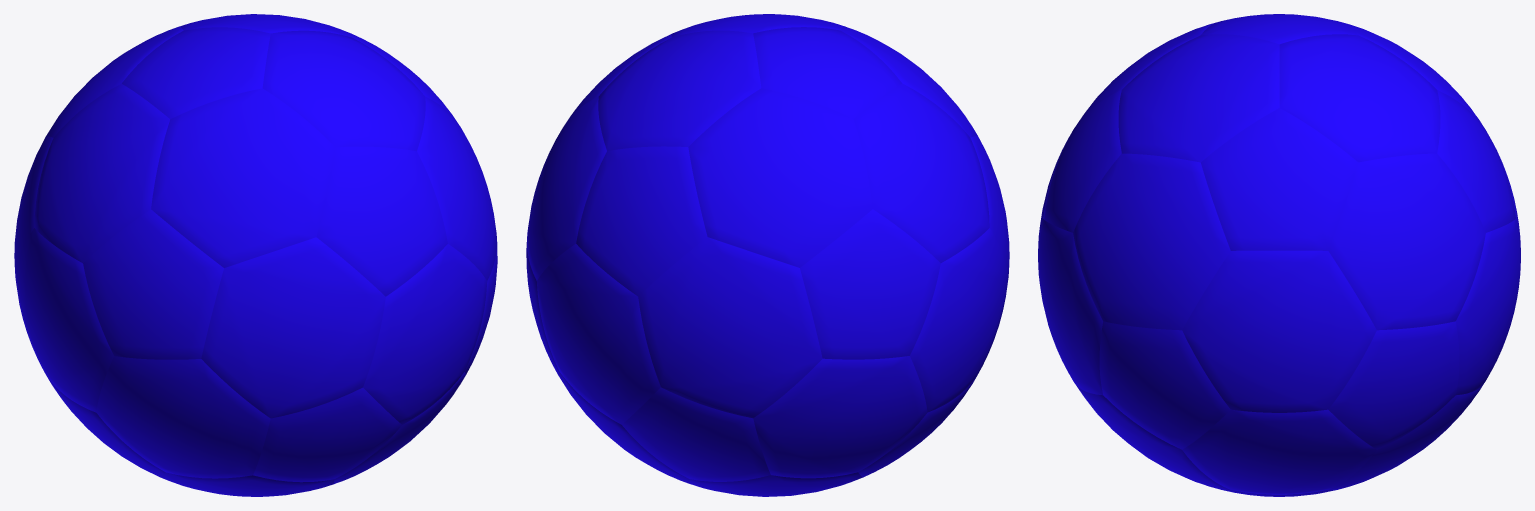
Rendered from ball_parts.fbx.
3 views of the same model, side by side, from view 1: azimuth 30°, elevation 25°; view 2: azimuth 150°, elevation 25°; view 3: azimuth 270°, elevation 25° (orthographic).
Parts seen in each view (by area): view 1: Ball.014, Ball.016, Ball.012, Ball.028, Ball.026, Ball.003, Ball.015, Ball.017, Ball.025, Ball.013, Ball.029, Ball.004 (+8 smaller); view 2: Ball.010, Ball.011, Ball.012, Ball.024, Ball.027, Ball.008, Ball.009, Ball.020, Ball.025, Ball.013, Ball.023, Ball.007 (+8 smaller); view 3: Ball.006, Ball.004, Ball.007, Ball.005, Ball.003, Ball.008, Ball.019, Ball.018, Ball.021, Ball.017, Ball.020, Ball.015 (+6 smaller).
Boxes of the visible parts, x1=… form: Ball.014: x1=151, y1=88, x2=335, y2=267; Ball.016: x1=201, y1=237, x2=385, y2=418; Ball.012: x1=34, y1=83, x2=169, y2=263; Ball.028: x1=96, y1=356, x2=270, y2=478; Ball.026: x1=83, y1=209, x2=223, y2=359; Ball.003: x1=262, y1=30, x2=425, y2=151; Ball.015: x1=316, y1=146, x2=447, y2=296; Ball.017: x1=363, y1=244, x2=487, y2=424; Ball.025: x1=16, y1=228, x2=113, y2=412; Ball.013: x1=122, y1=27, x2=270, y2=119; Ball.029: x1=253, y1=387, x2=401, y2=482; Ball.004: x1=417, y1=96, x2=496, y2=280; Ball.010: x1=688, y1=88, x2=872, y2=267; Ball.011: x1=638, y1=237, x2=822, y2=418; Ball.012: x1=853, y1=83, x2=989, y2=262; Ball.024: x1=753, y1=356, x2=927, y2=478; Ball.027: x1=800, y1=209, x2=940, y2=359; Ball.008: x1=598, y1=30, x2=761, y2=150; Ball.009: x1=576, y1=146, x2=707, y2=296; Ball.020: x1=536, y1=244, x2=660, y2=424; Ball.025: x1=910, y1=228, x2=1007, y2=412; Ball.013: x1=753, y1=27, x2=902, y2=118; Ball.023: x1=622, y1=387, x2=770, y2=481; Ball.007: x1=527, y1=96, x2=606, y2=280; Ball.006: x1=1182, y1=250, x2=1376, y2=412; Ball.004: x1=1073, y1=153, x2=1230, y2=330; Ball.007: x1=1328, y1=153, x2=1485, y2=330; Ball.005: x1=1200, y1=108, x2=1358, y2=250; Ball.003: x1=1118, y1=34, x2=1279, y2=162; Ball.008: x1=1279, y1=34, x2=1440, y2=162; Ball.019: x1=1182, y1=409, x2=1376, y2=494; Ball.018: x1=1099, y1=321, x2=1230, y2=449; Ball.021: x1=1328, y1=321, x2=1459, y2=449; Ball.017: x1=1038, y1=219, x2=1102, y2=395; Ball.020: x1=1456, y1=219, x2=1520, y2=395; Ball.015: x1=1043, y1=90, x2=1121, y2=232.
Bounding box in the file's own units: 0.9958 × 0.997 × 0.9966.
